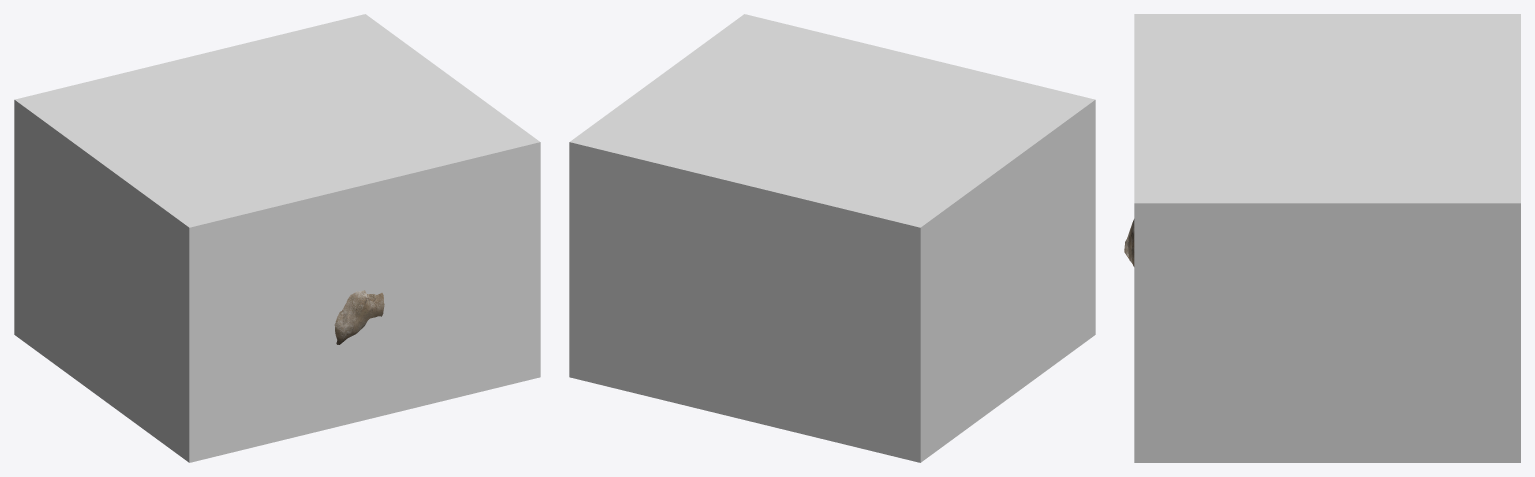
File: rock_dirt01.dae
3 views of the same model, side by side, from view 1: azimuth 30°, elevation 25°; view 2: azimuth 150°, elevation 25°; view 3: azimuth 270°, elevation 25° (orthographic). The views are drawn at different scales.
Visible parts, largest first — view 1: Untitled, rock_dirt01_a200, rock_dirt01_a70; view 2: Untitled; view 3: Untitled.
Part boxes in pixels (left/top/right/bottom): Untitled: left=14, top=14, right=540, bottom=462; rock_dirt01_a200: left=335, top=290, right=384, bottom=344; rock_dirt01_a70: left=334, top=294, right=378, bottom=344; Untitled: left=569, top=14, right=1095, bottom=462; Untitled: left=1134, top=14, right=1520, bottom=462.
Bounding box in the file's own units: 3.37 × 2.99 × 2.18.
